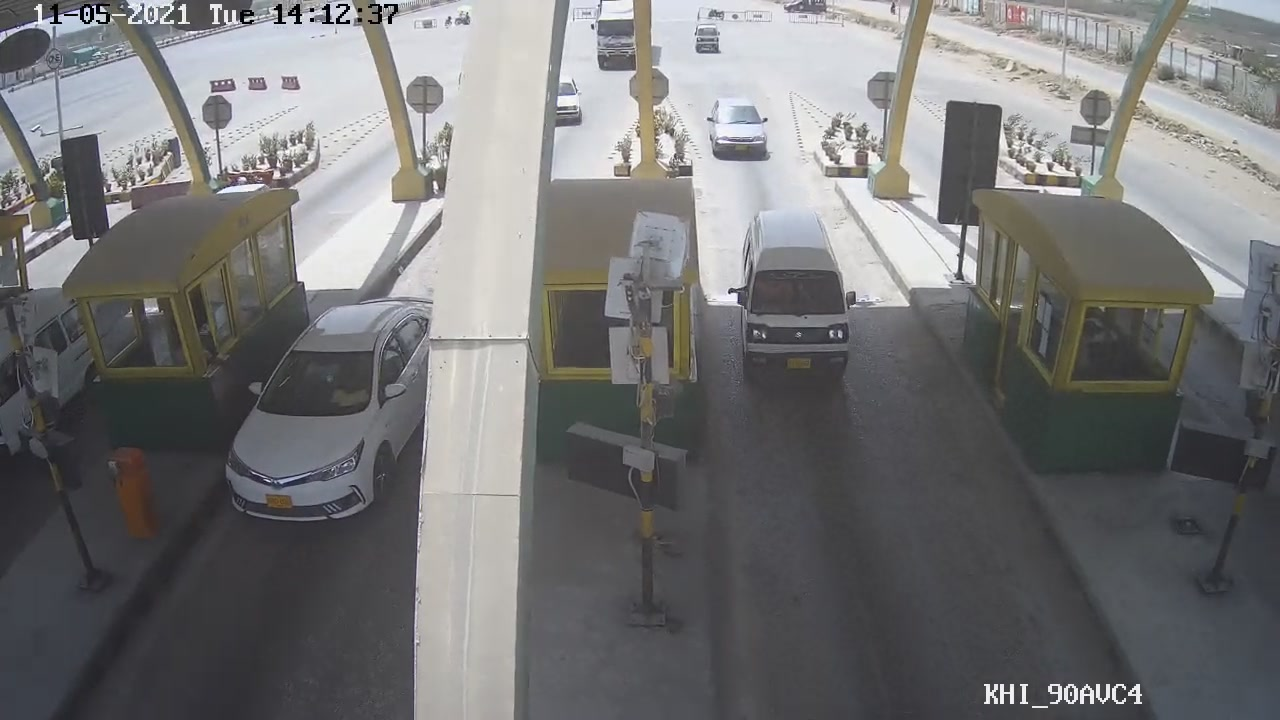F1: (729, 202, 865, 392)
